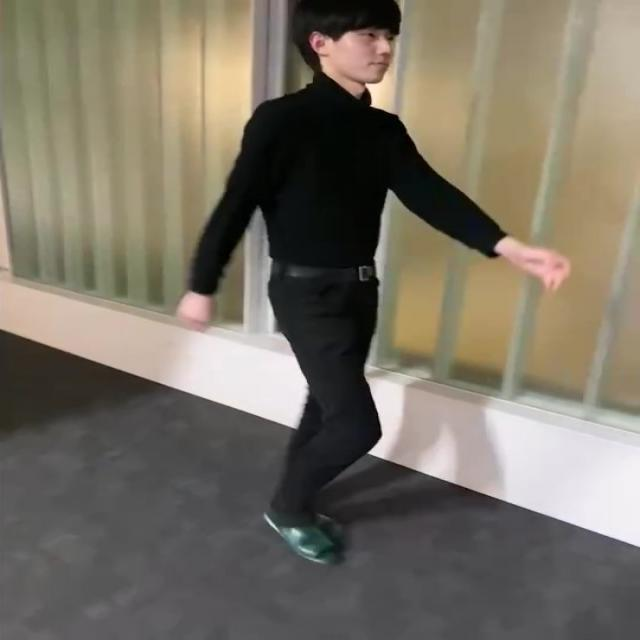direk: (174, 4, 578, 572)
